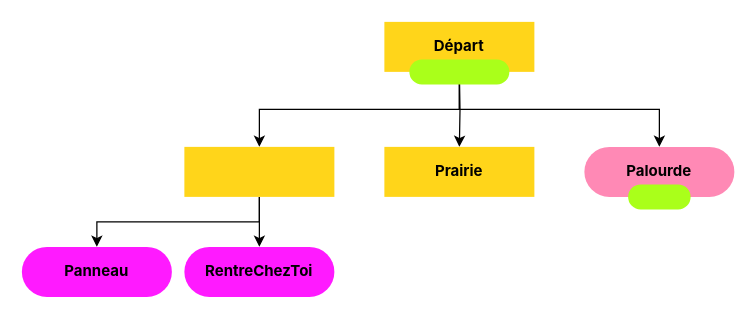
This 755x318 diagram has some shape labels left out. The shapes that lost their labels are listed below. From the top down, each one's centre as x and y in pixels, then its label:
At pixel 459 71: "cat cd ls".
At pixel 259 171: "BoisDesLutins".
At pixel 659 196: "cd ls".
